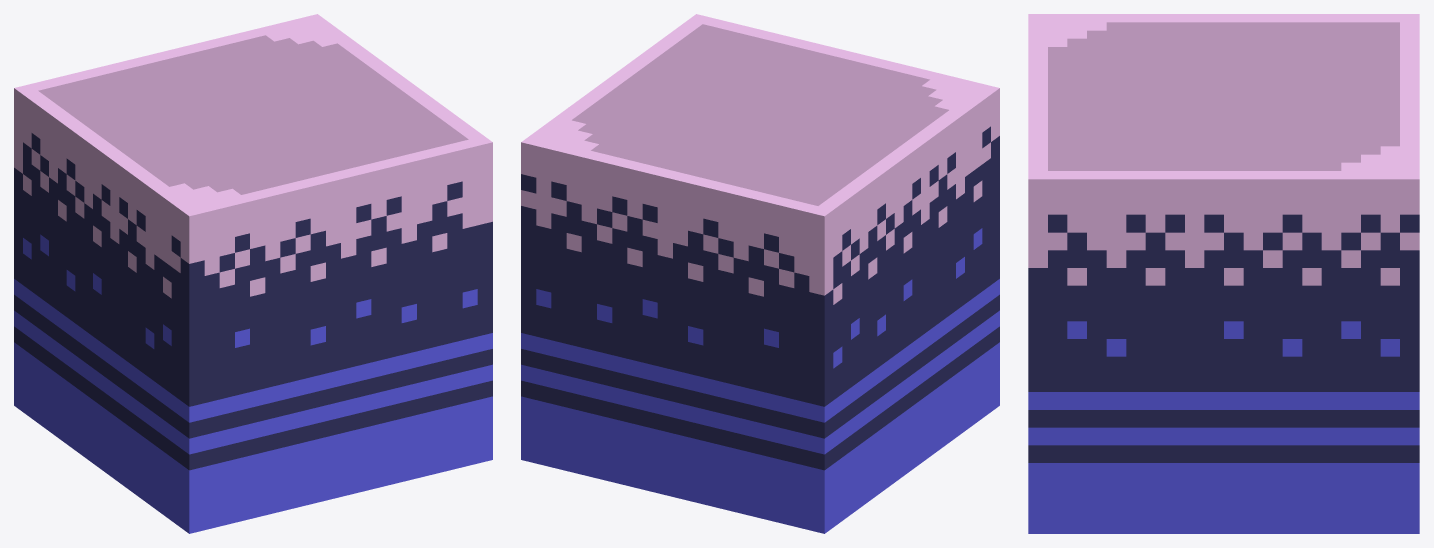
The model's file is cesped cerezo negro.obj.
3 renders of one model, left to right at view 1: azimuth 30°, elevation 25°; view 2: azimuth 150°, elevation 25°; view 3: azimuth 270°, elevation 25°, orthographic. The views are drawn at different scales.
Size of the model in its own units: 2 by 2 by 2.
Materials: 1 (1 with a texture image).
